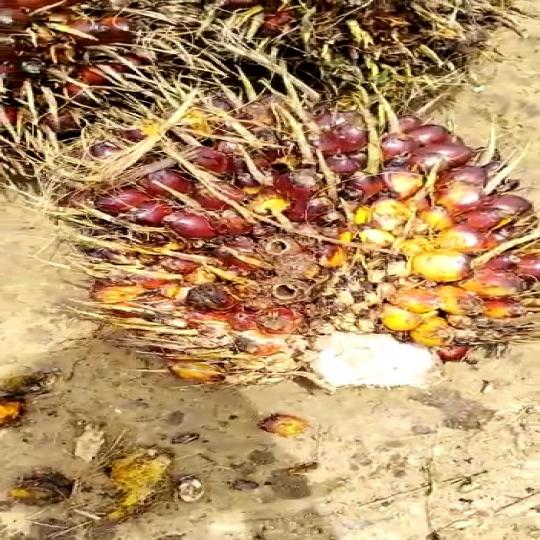masak: (68, 90, 540, 430)
